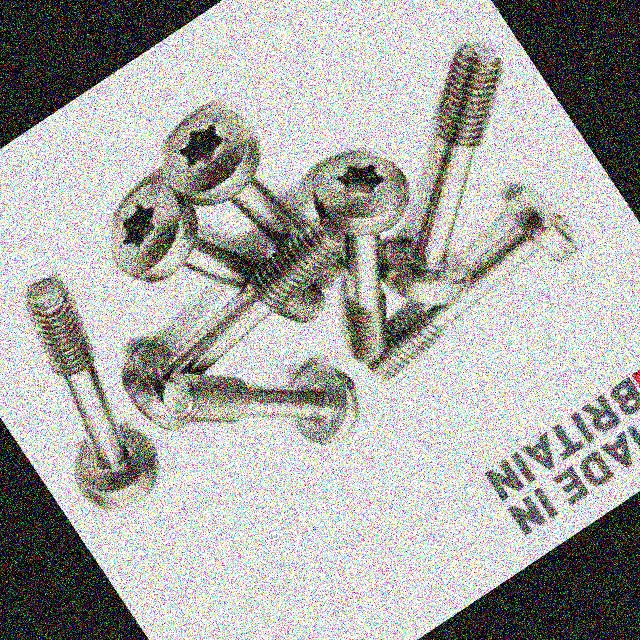torx: (143, 89, 280, 223), (86, 167, 219, 300), (297, 128, 427, 257)
